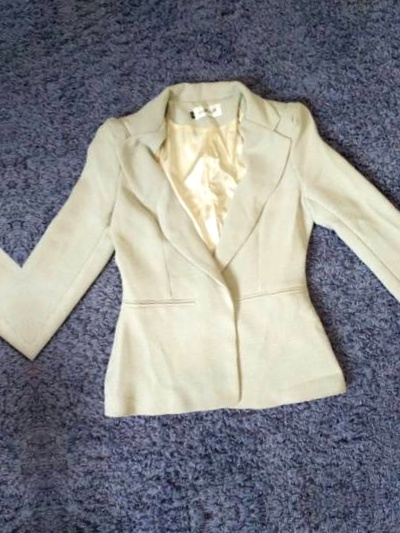Blazer: (6, 49, 400, 452), (0, 96, 37, 499)
